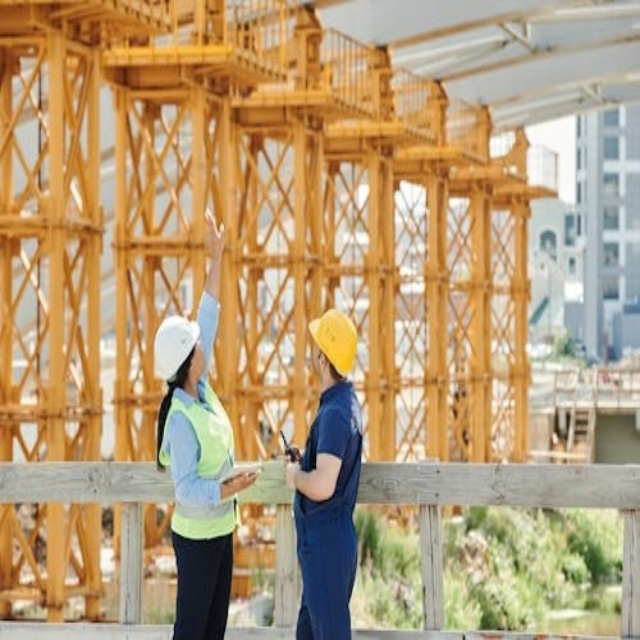Sin_guantes: (195, 200, 230, 261), (227, 465, 261, 502), (282, 454, 302, 492)
